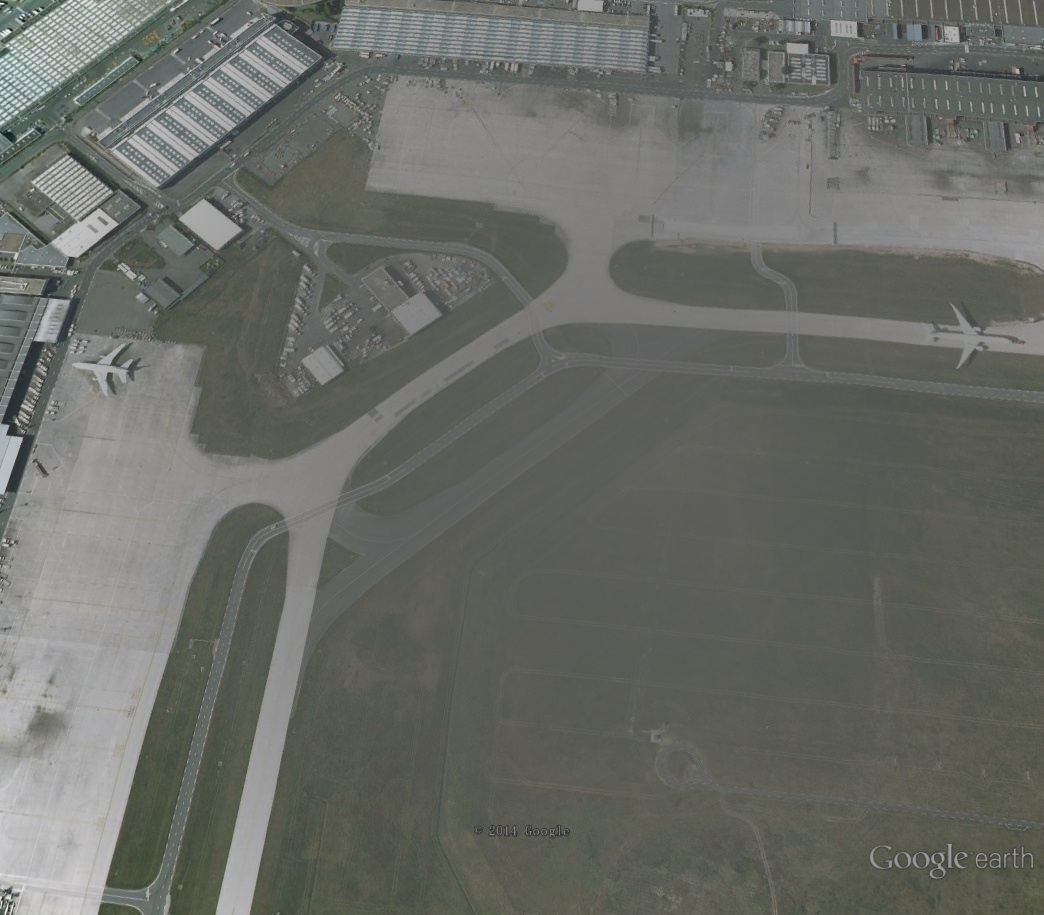aircraft: (922, 300, 1017, 372), (70, 341, 139, 401)
